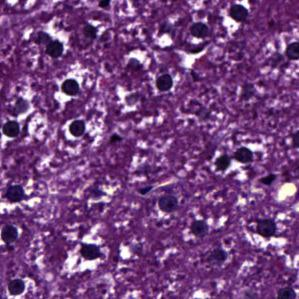inflammation: (31, 25, 66, 58), (56, 73, 84, 102), (255, 213, 281, 240), (1, 180, 28, 206), (210, 147, 233, 174), (233, 141, 256, 166), (66, 115, 89, 139), (155, 191, 178, 214), (155, 68, 176, 93), (1, 119, 24, 141), (187, 19, 211, 40), (188, 217, 212, 238), (79, 241, 102, 260), (0, 221, 17, 246), (230, 1, 247, 26), (7, 274, 25, 296), (209, 245, 229, 264), (80, 23, 100, 41)
